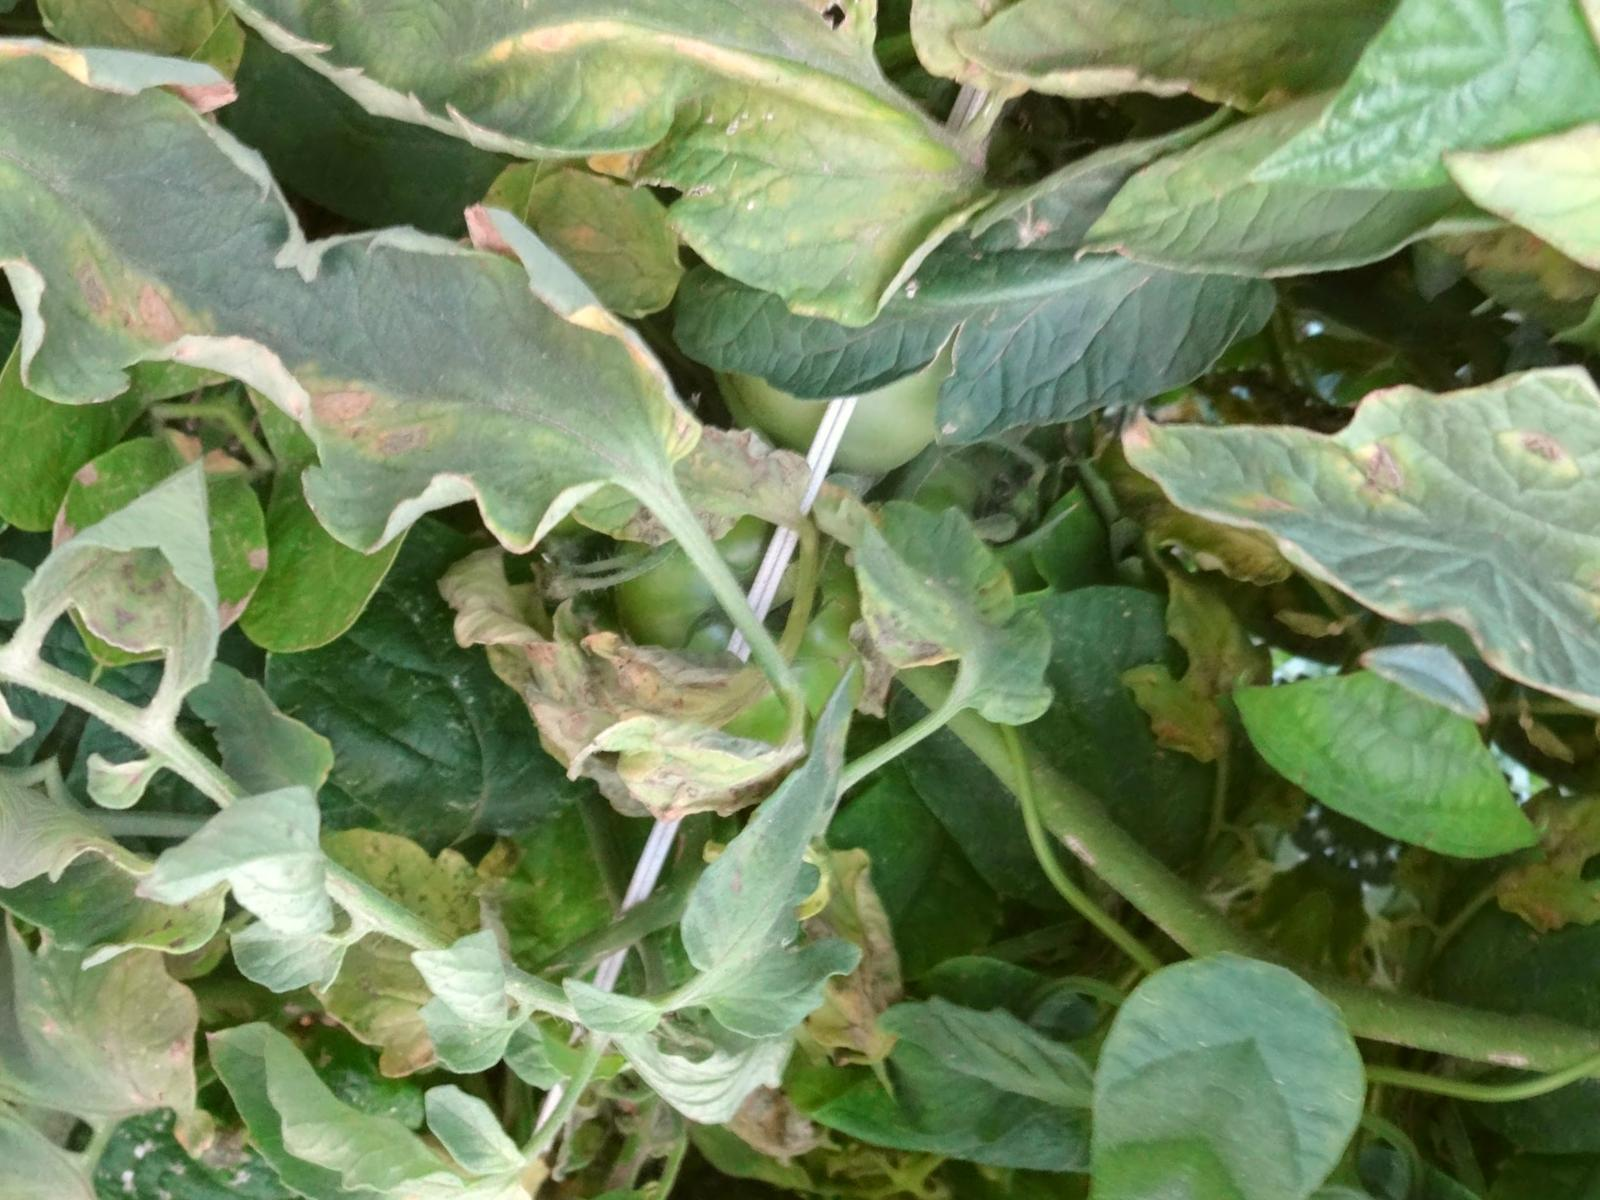Tomato leaf late blight: (198, 146, 794, 679), (1058, 146, 1600, 692), (640, 643, 989, 1087), (116, 961, 592, 1200), (771, 453, 1124, 764)
